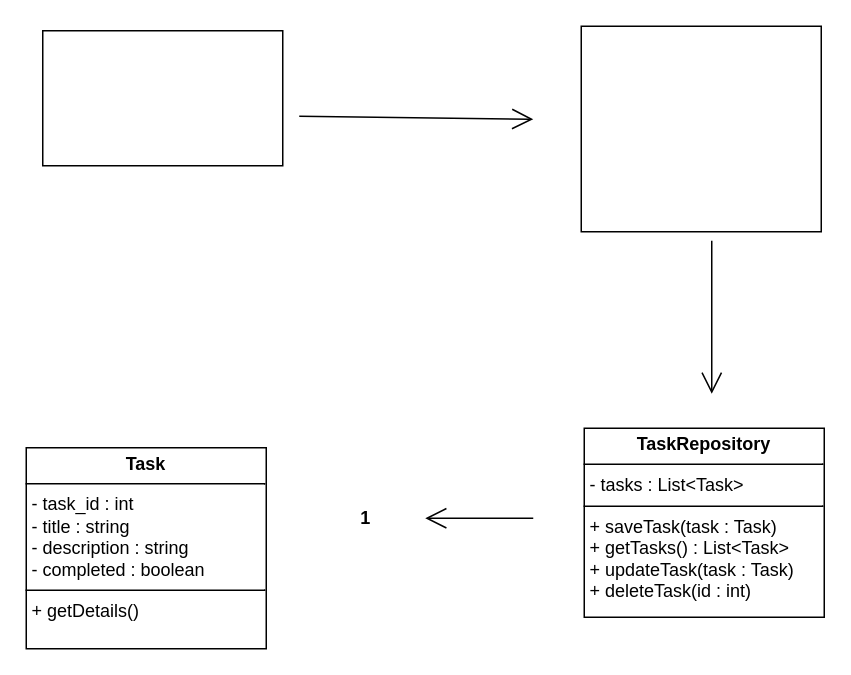
Some shapes in this 851 by 675 pixel diagram are drawn without their labels. The box of each missing label's shape, as (x1, y1, x2, y2) in pixels:
TaskController + createTask() + updateTask() + deleteTask() + getTasks(): (580, 25, 821, 232)
TaskView + displayTasks() + getUserInput(): (41, 29, 283, 166)
